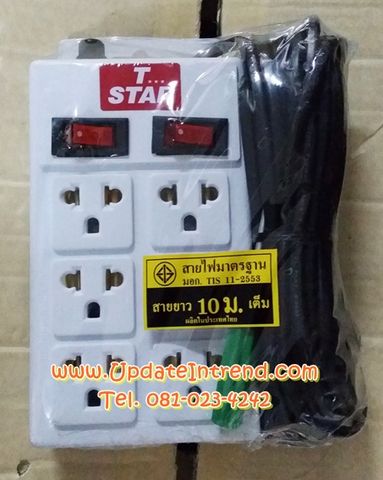Three_eye_plug: (22, 36, 288, 452)
